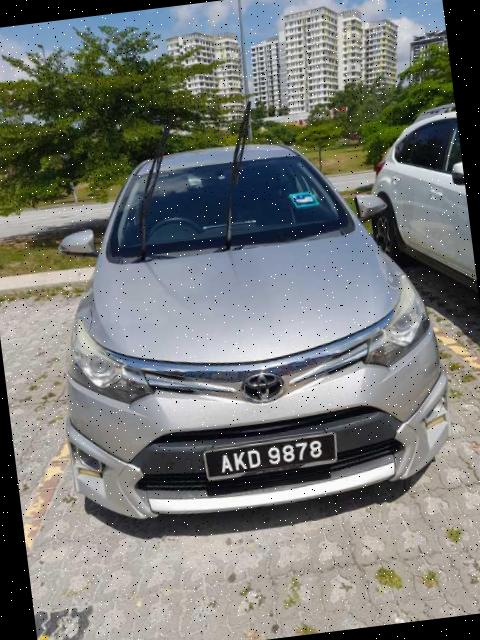License_Plate: (203, 432, 342, 484)
car: (34, 120, 462, 532)
